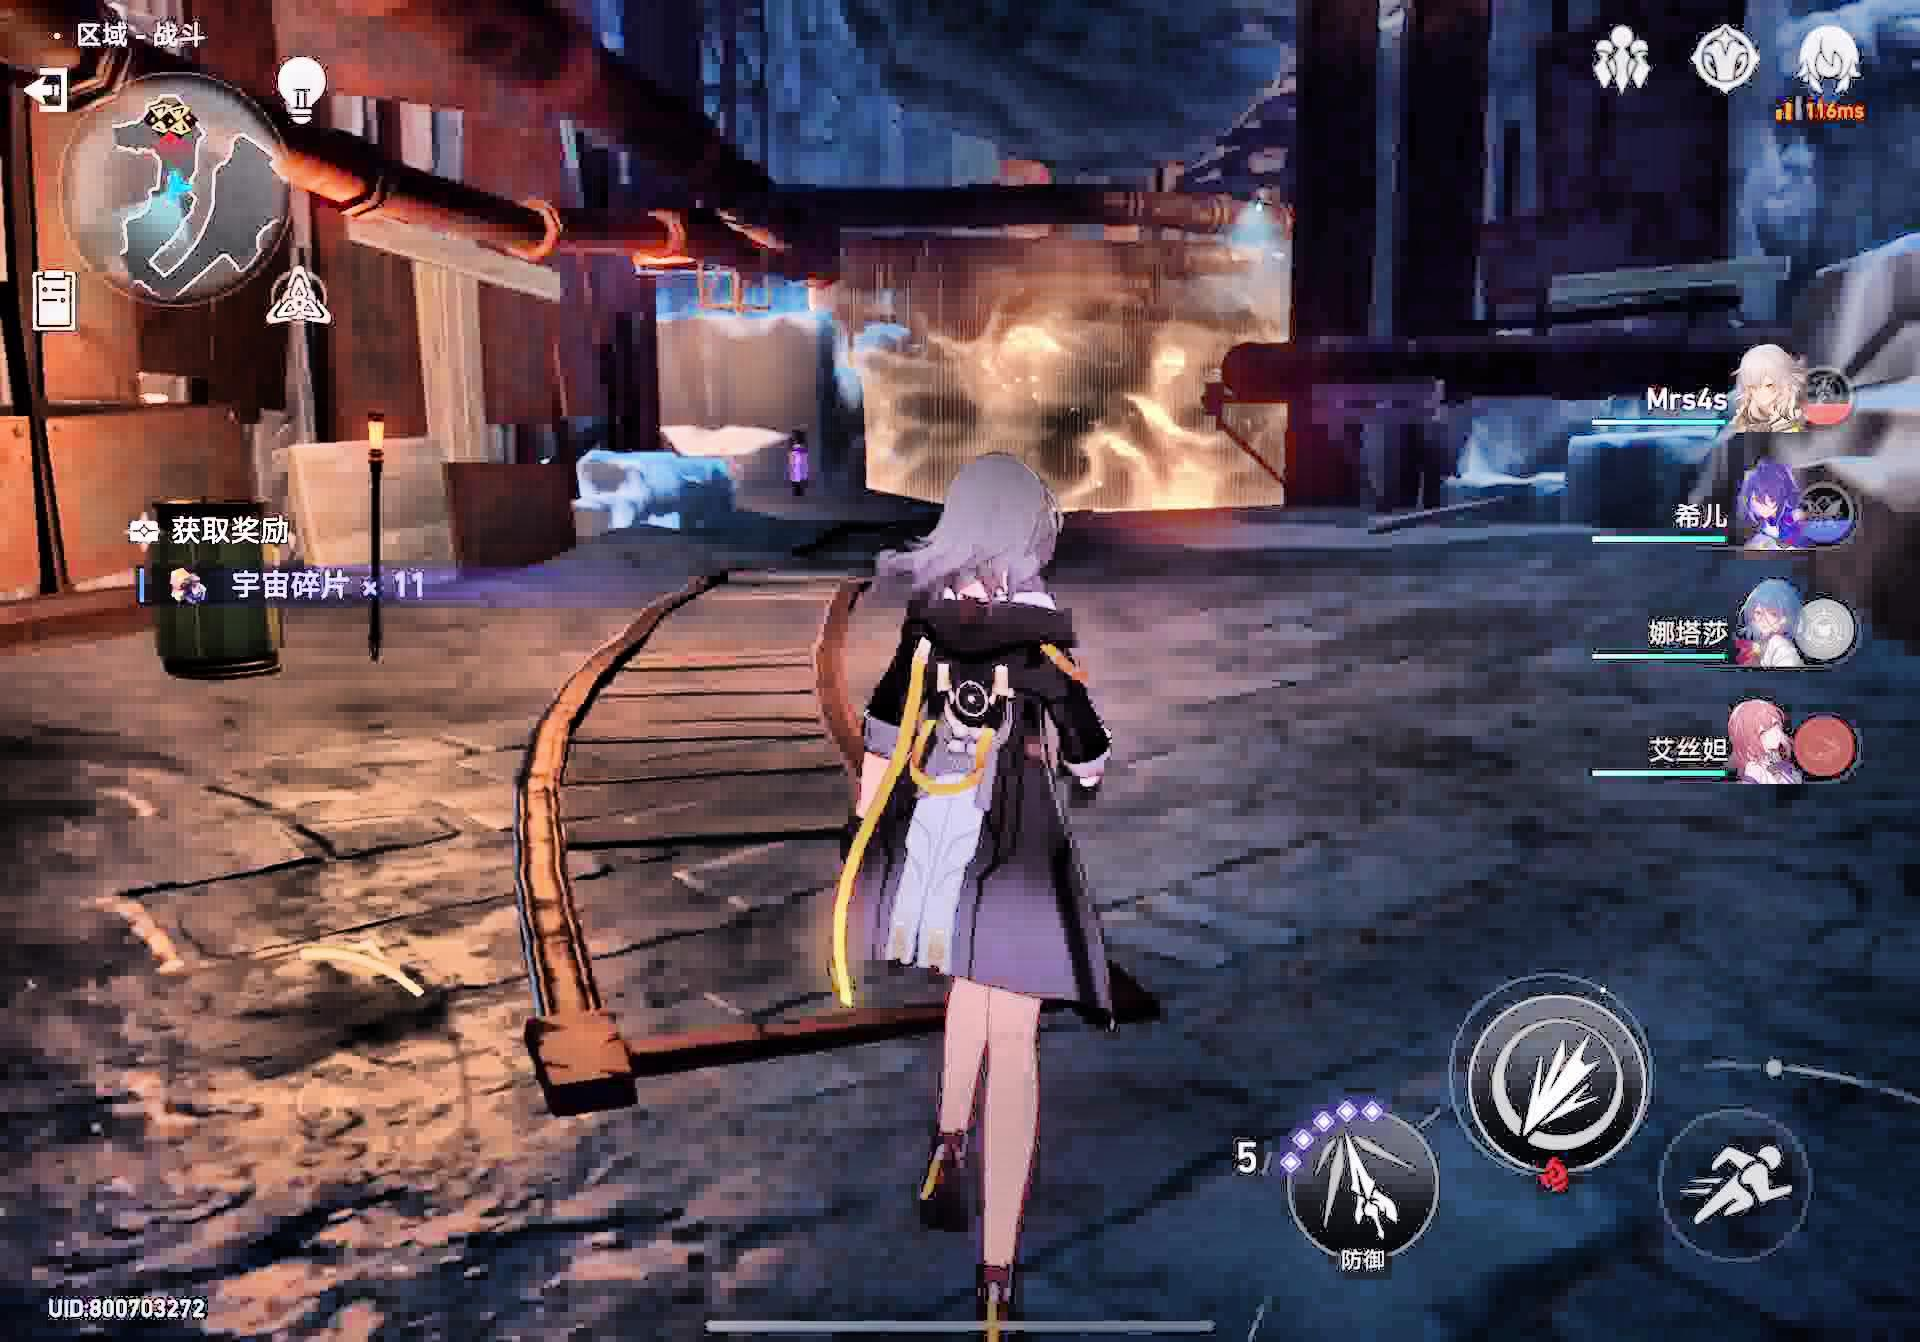Box: (142, 505, 290, 680)
Self: (840, 458, 1138, 1316)
